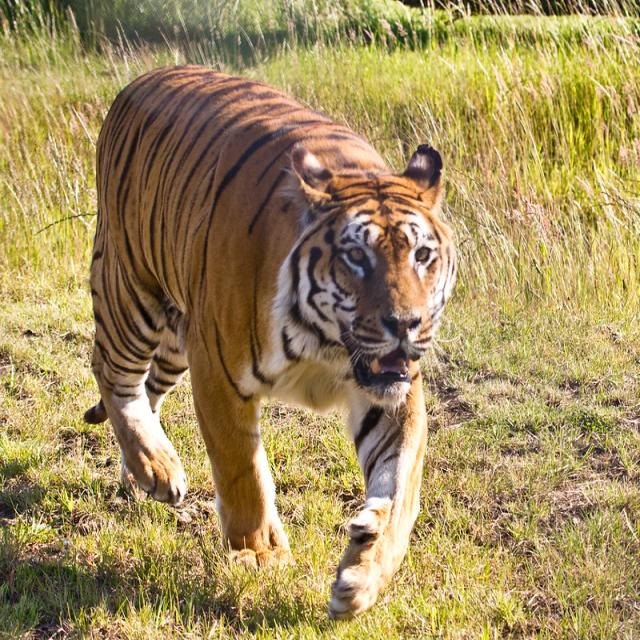Tiger: (70, 48, 471, 630)
